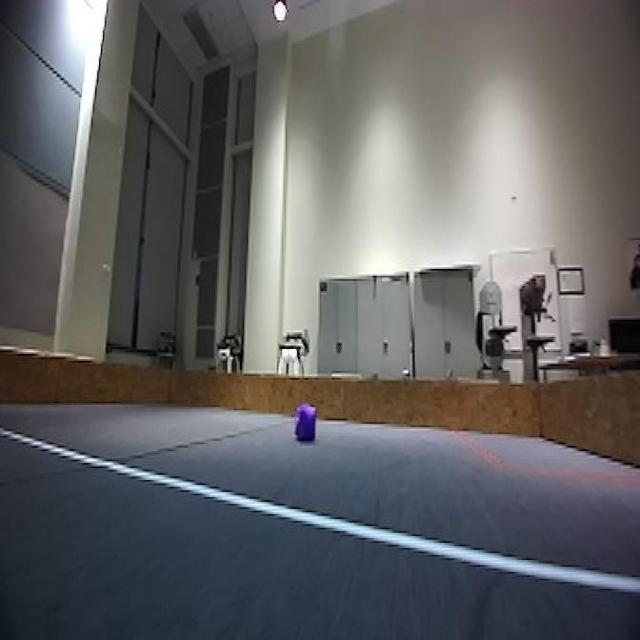frc_cube: (293, 400, 319, 444)
